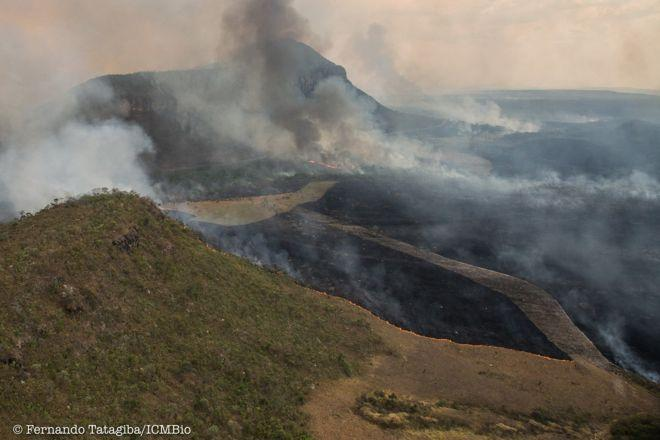smoke: (16, 128, 127, 189), (296, 107, 419, 149)
